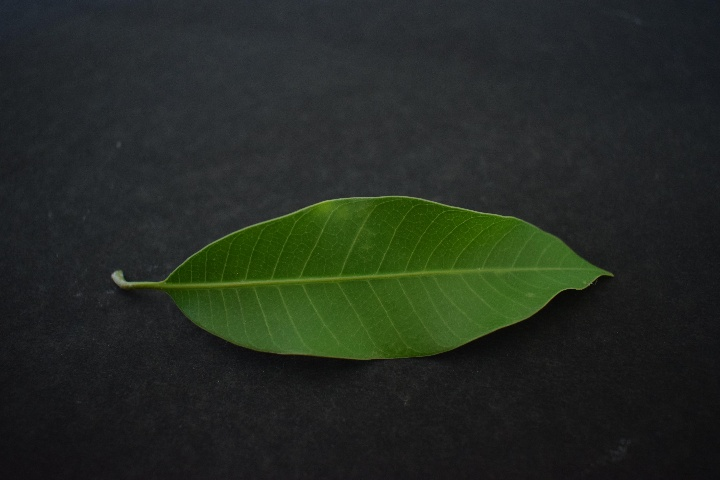healthy: (146, 182, 602, 366)
